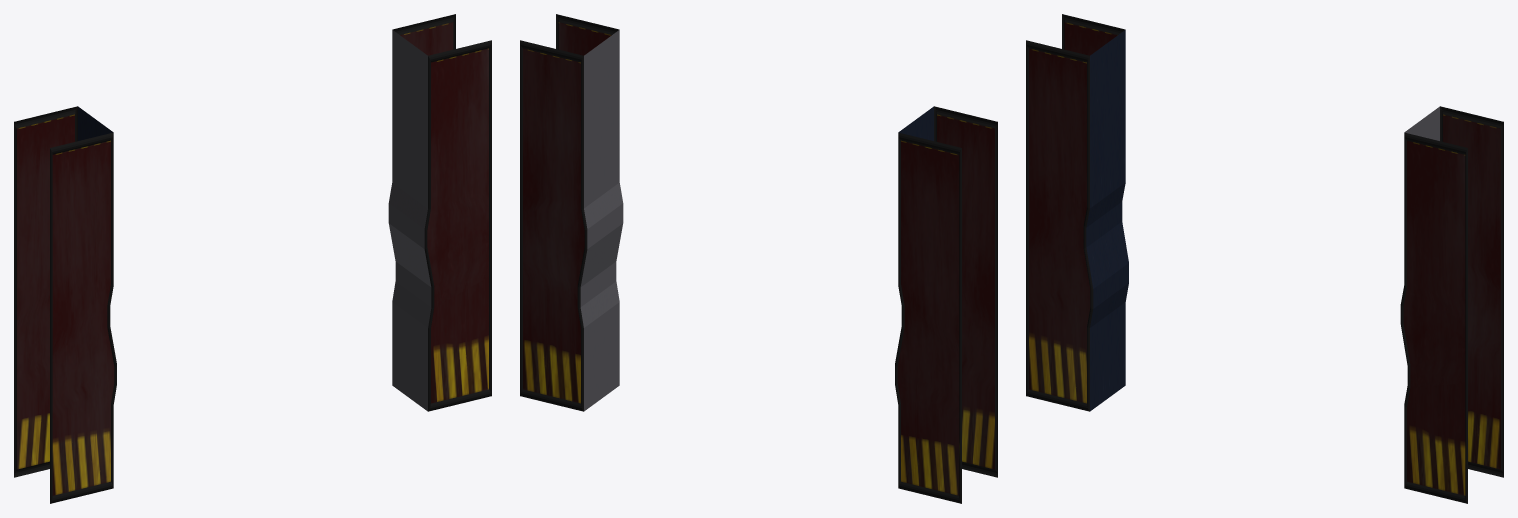
Rendered from door-frame-locked_000007.obj.
The picture shows the model from 3 angles, left to right: view 1: azimuth 30°, elevation 25°; view 2: azimuth 150°, elevation 25°; view 3: azimuth 330°, elevation 25°; orthographic projection.
Parts seen in each view (by area): view 1: Door.Left_Cube.007, Door.Right_Cube.006; view 2: Door.Left_Cube.007, Door.Right_Cube.006; view 3: Door.Left_Cube.007, Door.Right_Cube.006.
Boxes of the visible parts, bbox=[...] form: Door.Left_Cube.007: bbox=[388, 14, 491, 411]; Door.Right_Cube.006: bbox=[14, 106, 116, 503]; Door.Left_Cube.007: bbox=[520, 14, 623, 411]; Door.Right_Cube.006: bbox=[895, 106, 997, 503]; Door.Left_Cube.007: bbox=[1400, 106, 1503, 503]; Door.Right_Cube.006: bbox=[1026, 14, 1128, 411].
Bounding box in the file's own units: 6.83 × 5.26 × 0.9998.
Materials: 6 (6 with a texture image).
